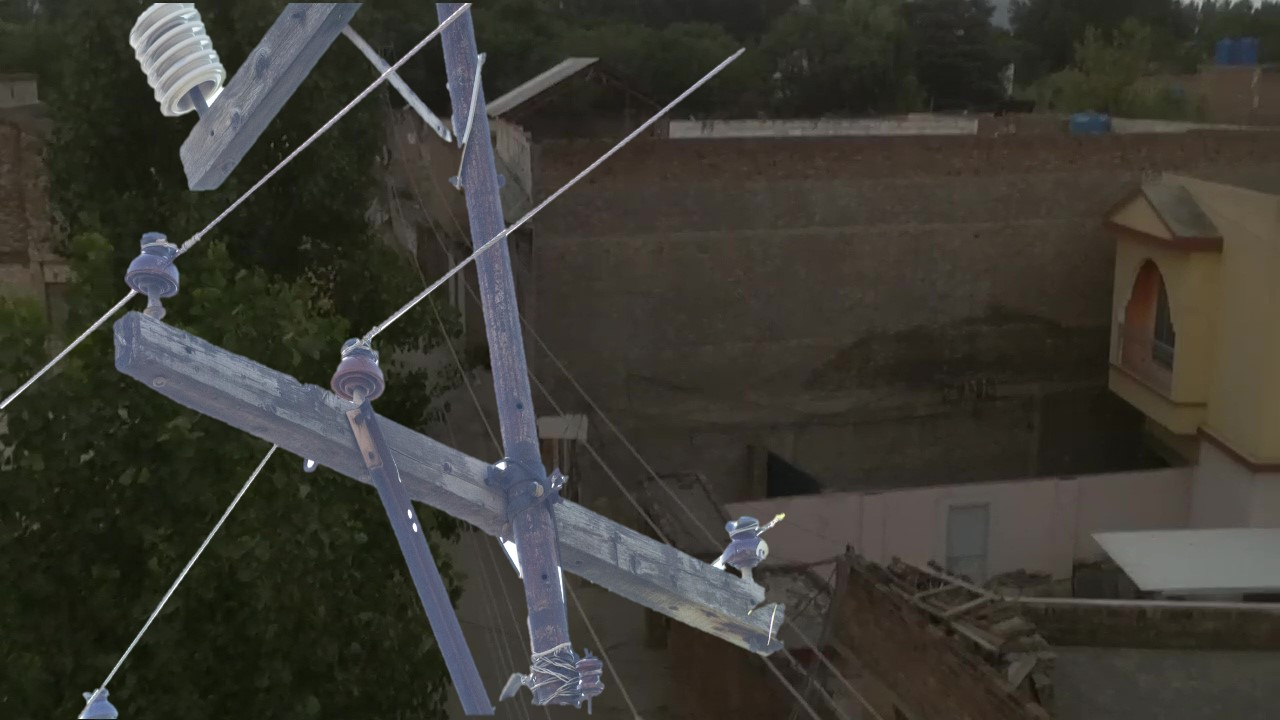defect_pin: (714, 505, 783, 576)
insulator_pin: (117, 221, 193, 309), (326, 326, 395, 413)
